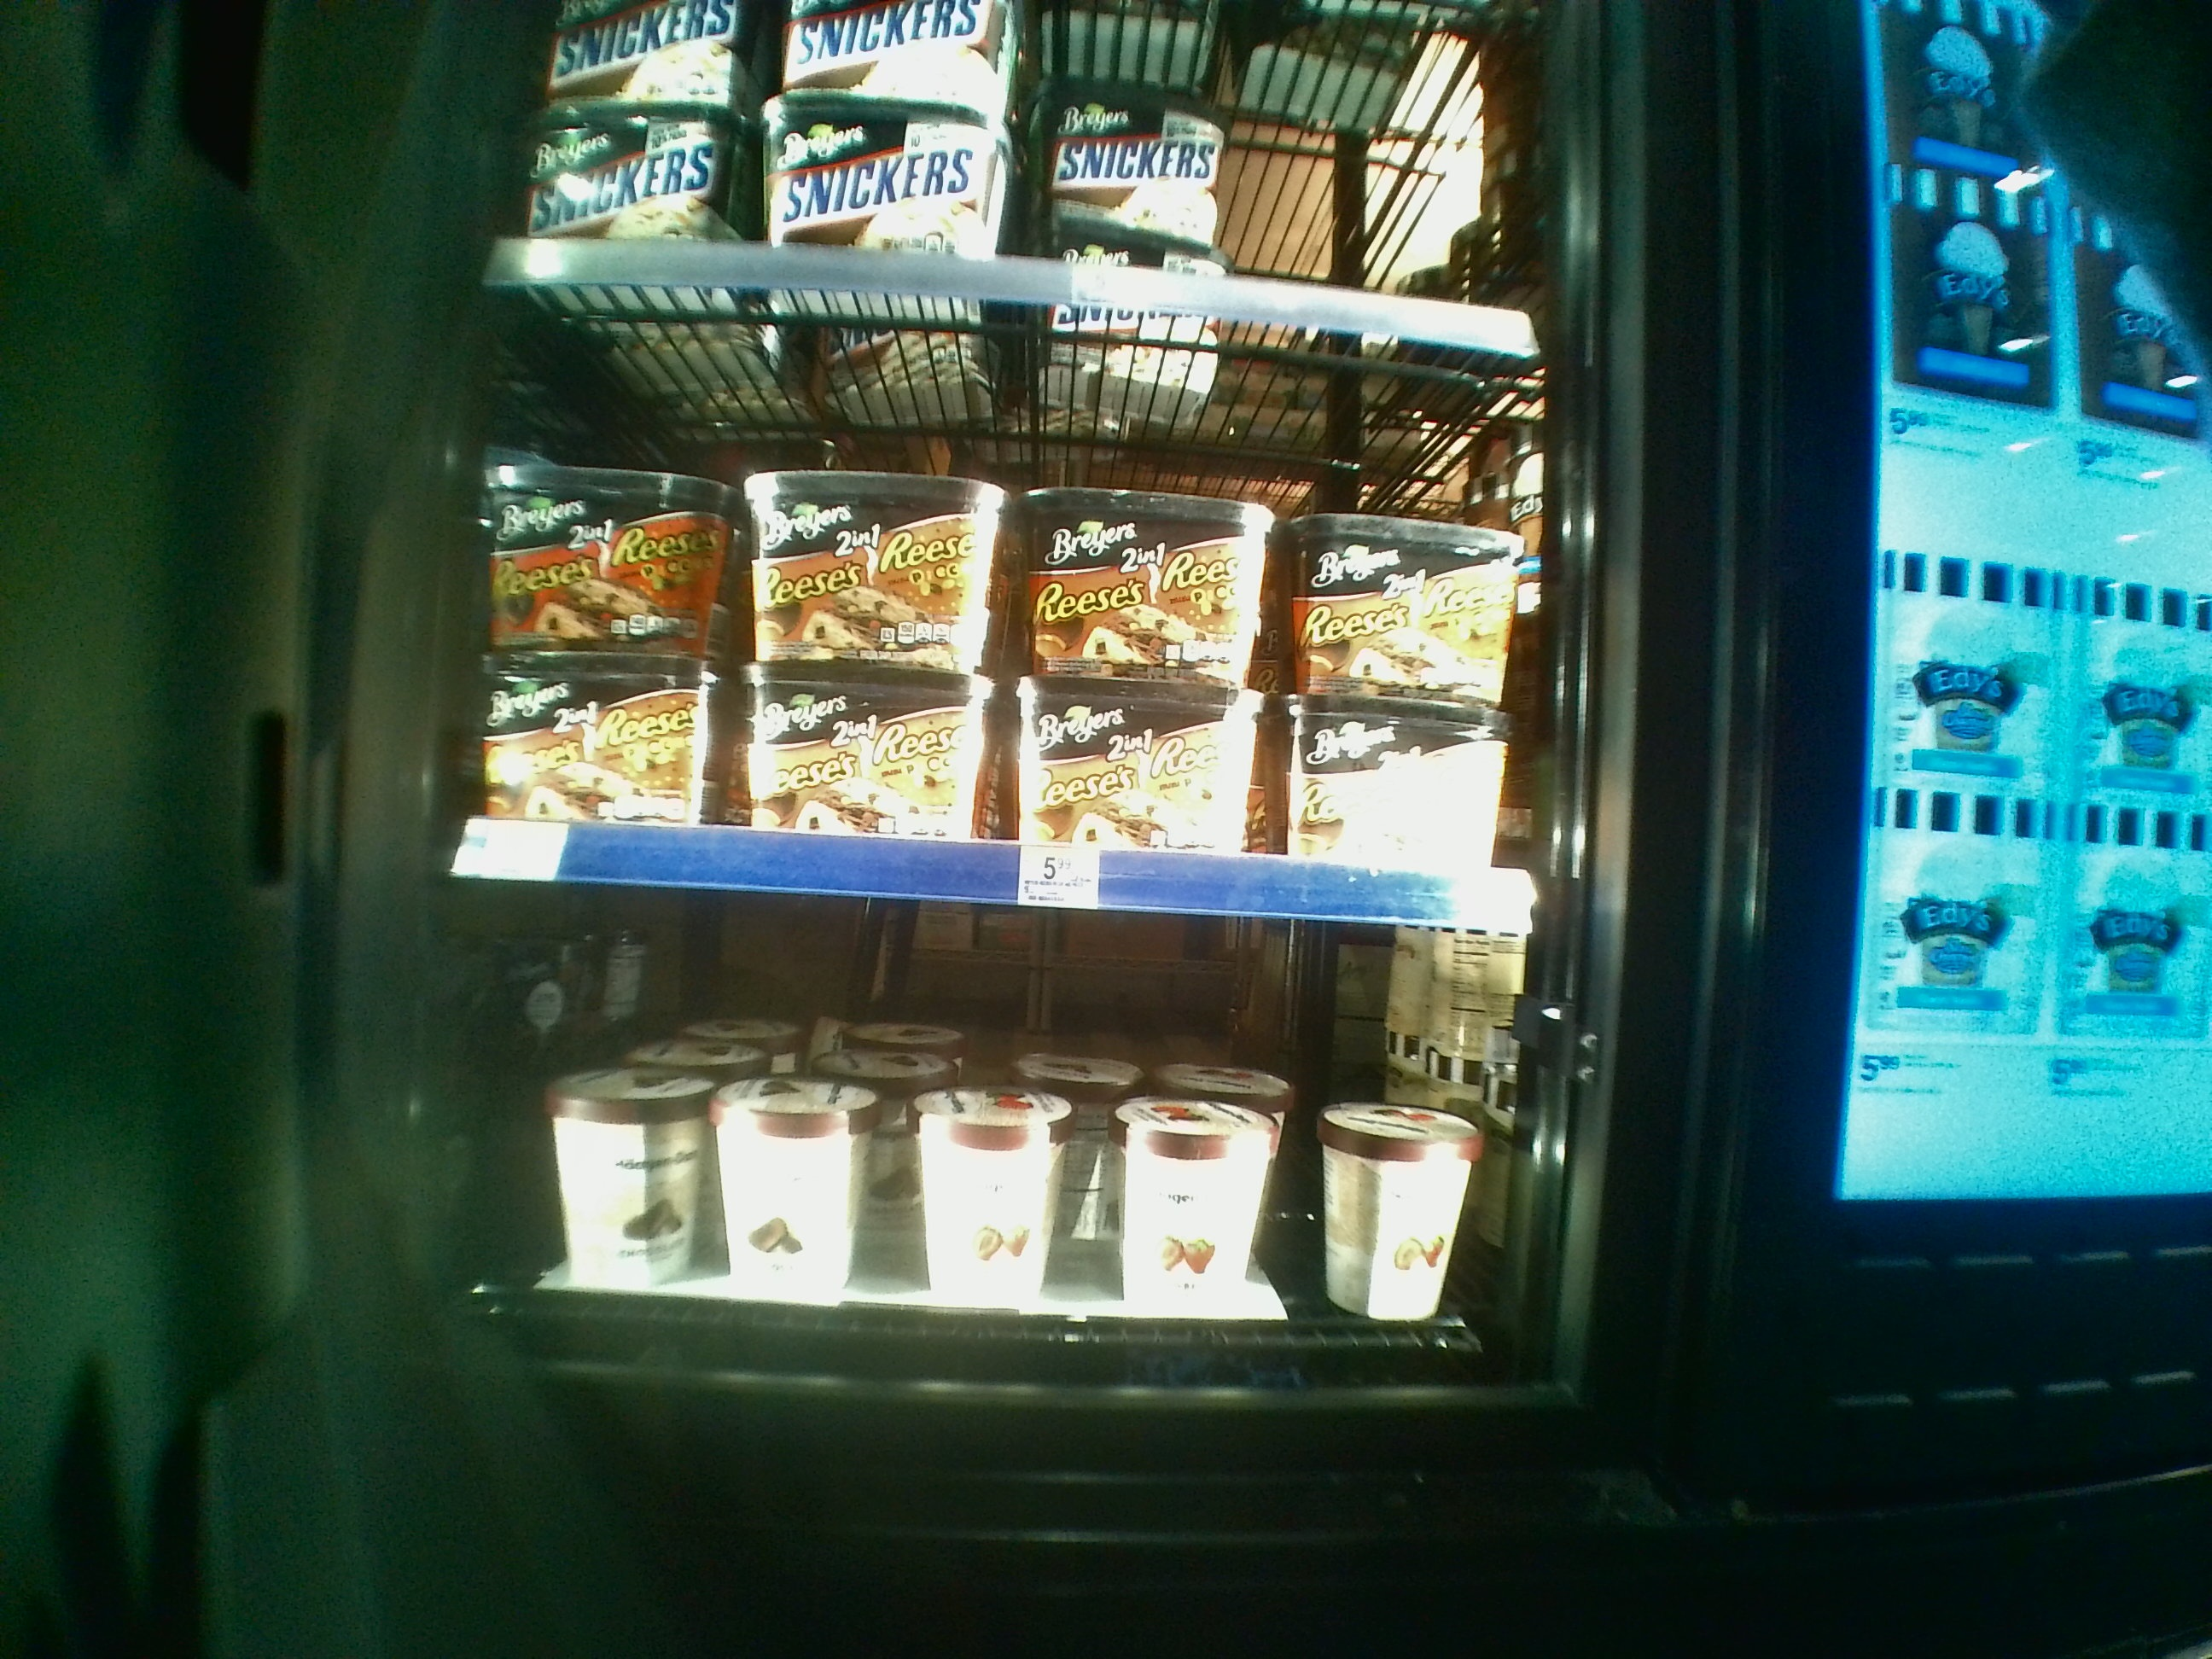shelf: (435, 342, 1545, 908), (411, 922, 1550, 1399)
